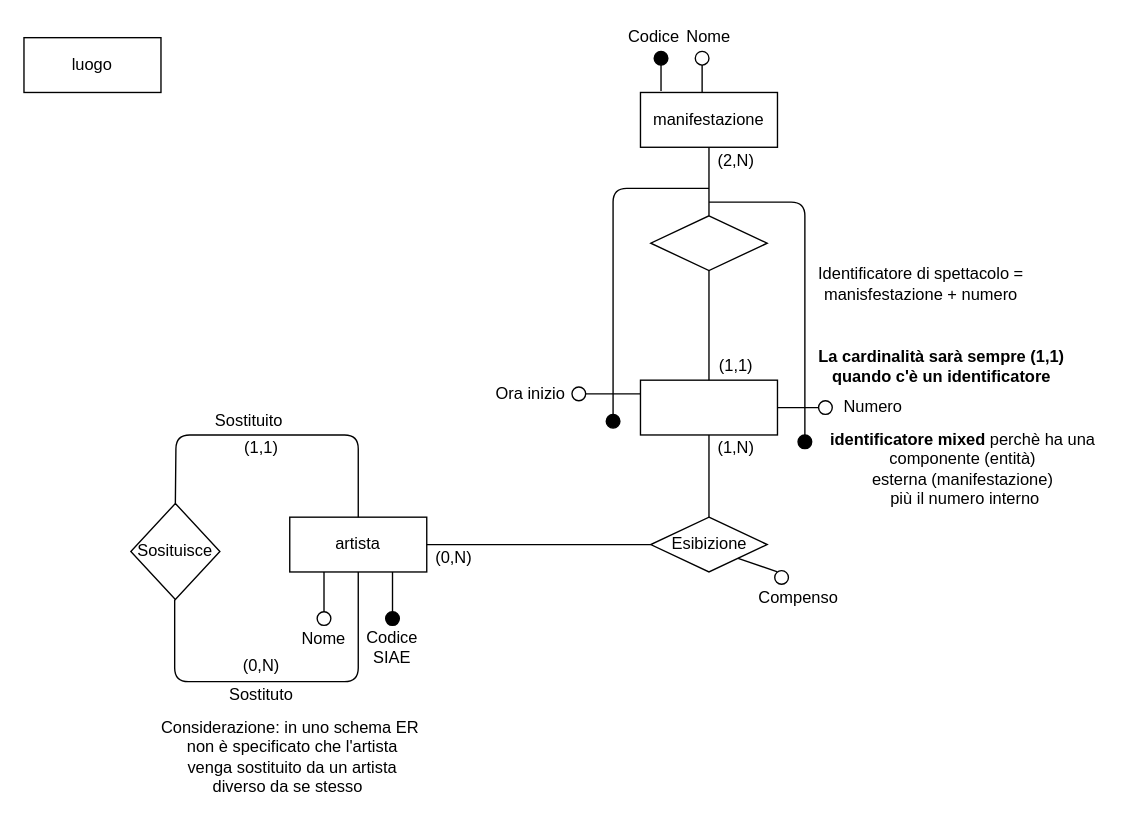
Some shapes in this 1130 by 821 pixel diagram are drawn without their labels. The shapes that lost their labels are listed below. From the top down, each one's box as (x1, y1, x2, y2) in pixels, then its label:
(649, 214, 767, 271): Consiste
(639, 379, 777, 435): spettacolo
